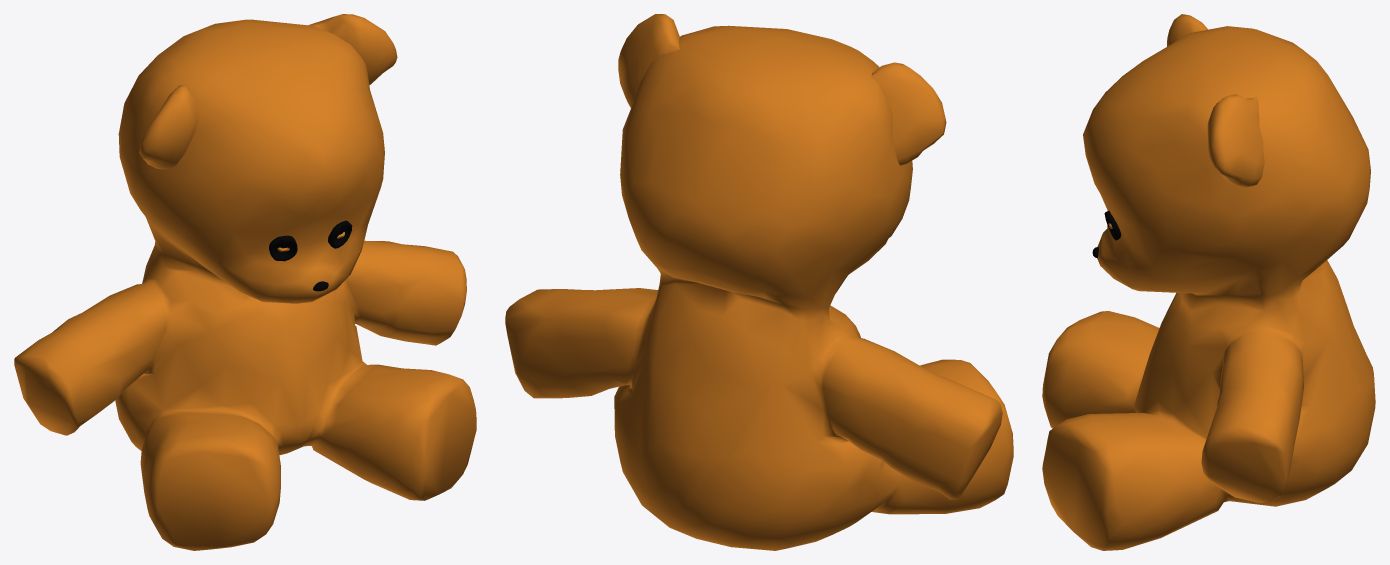
File: oso.fbx
The picture shows the model from 3 angles, left to right: view 1: azimuth 30°, elevation 25°; view 2: azimuth 150°, elevation 25°; view 3: azimuth 270°, elevation 25°; orthographic projection. The views are drawn at different scales.
Parts seen in each view (by area): view 1: Cube.001; view 2: Cube.001; view 3: Cube.001.
Boxes of the visible parts, x1=… form: Cube.001: x1=14, y1=14, x2=476, y2=550; Cube.001: x1=505, y1=14, x2=1013, y2=550; Cube.001: x1=1042, y1=14, x2=1375, y2=550.
Bounding box in the file's own units: 3316 × 3178 × 2181.
